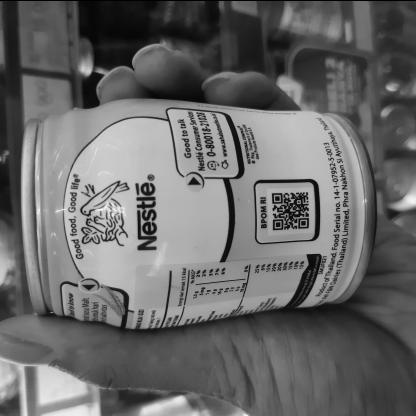alumunium_can: (13, 98, 395, 326)
